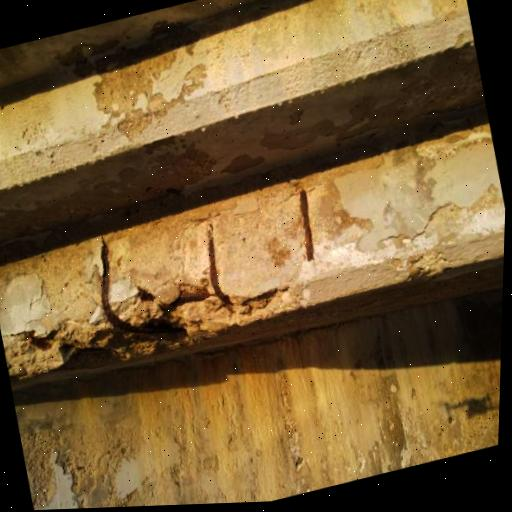exposed_rebar: (101, 238, 173, 333), (208, 227, 231, 308), (160, 288, 210, 311), (299, 189, 313, 260)
spalling: (1, 283, 305, 378), (56, 19, 206, 133), (399, 250, 450, 280)
